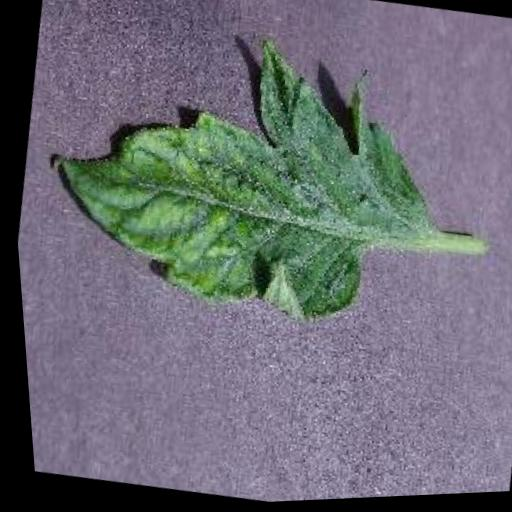Mosaic Virus: (11, 0, 463, 356)
